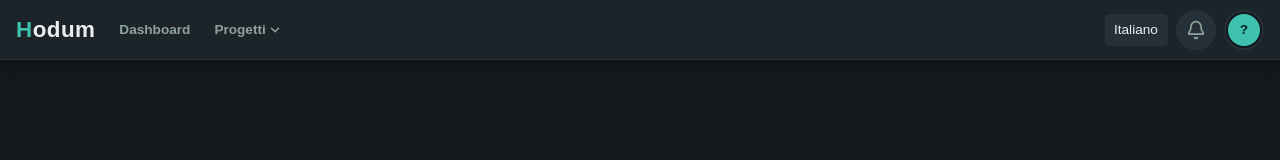
Test: TopbarComponent › closes the menu when Escape is pressed
The width and height of the screenshot is (1280, 160).
Click the button named "Menu account" at x=1244, y=30, box [1224,10,1264,50]
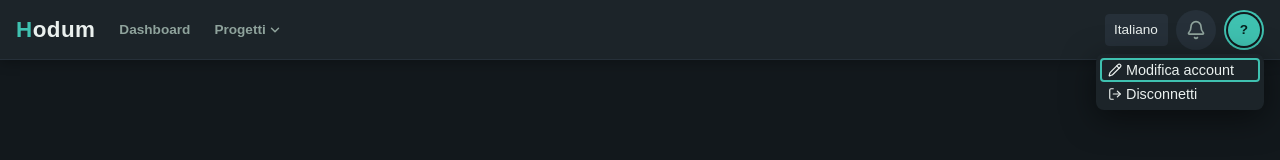
Check: the menu is shown, box [1096,54,1264,110]
Press Escape
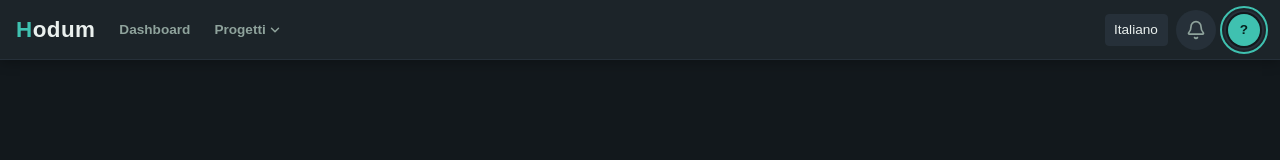
Check: the menu is gone
